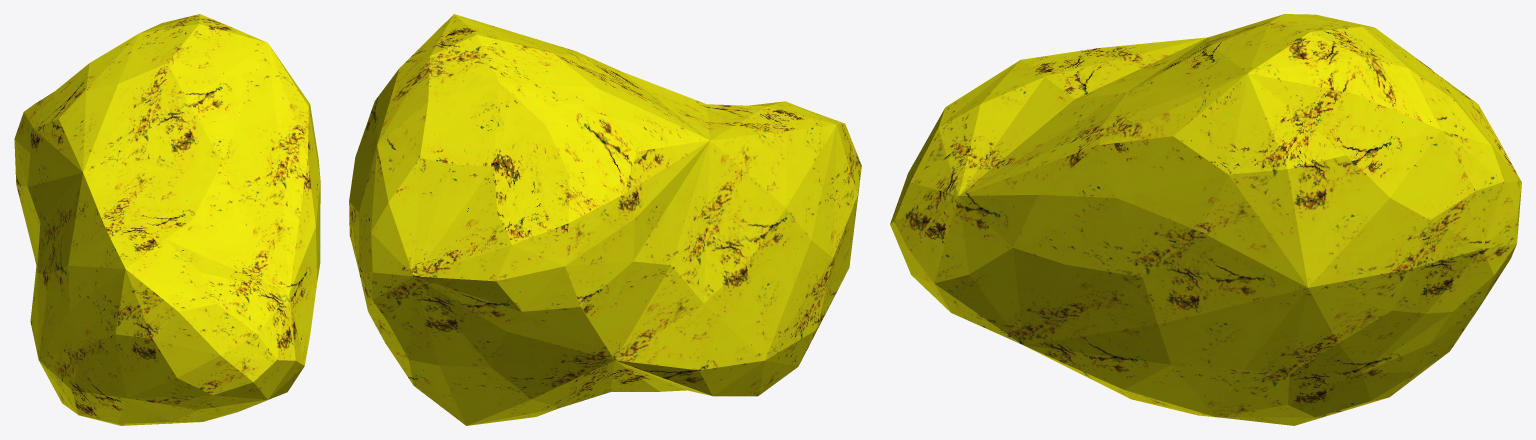
Rendered from CRAFT_BRYLKA_SIARKI.glb.
3 views of the same model, side by side, from view 1: azimuth 30°, elevation 25°; view 2: azimuth 150°, elevation 25°; view 3: azimuth 270°, elevation 25° (orthographic). The views are drawn at different scales.
Visible parts, largest first — view 1: CRAFT_BRYLKA_SIARKI; view 2: CRAFT_BRYLKA_SIARKI; view 3: CRAFT_BRYLKA_SIARKI.
Part boxes in pixels (x1,y1,x2,y2): CRAFT_BRYLKA_SIARKI: (14,14,320,425); CRAFT_BRYLKA_SIARKI: (349,14,861,425); CRAFT_BRYLKA_SIARKI: (890,14,1521,425).
Bounding box in the file's own units: 0.1058 × 0.1051 × 0.1499.
1 material, 1 textured.
